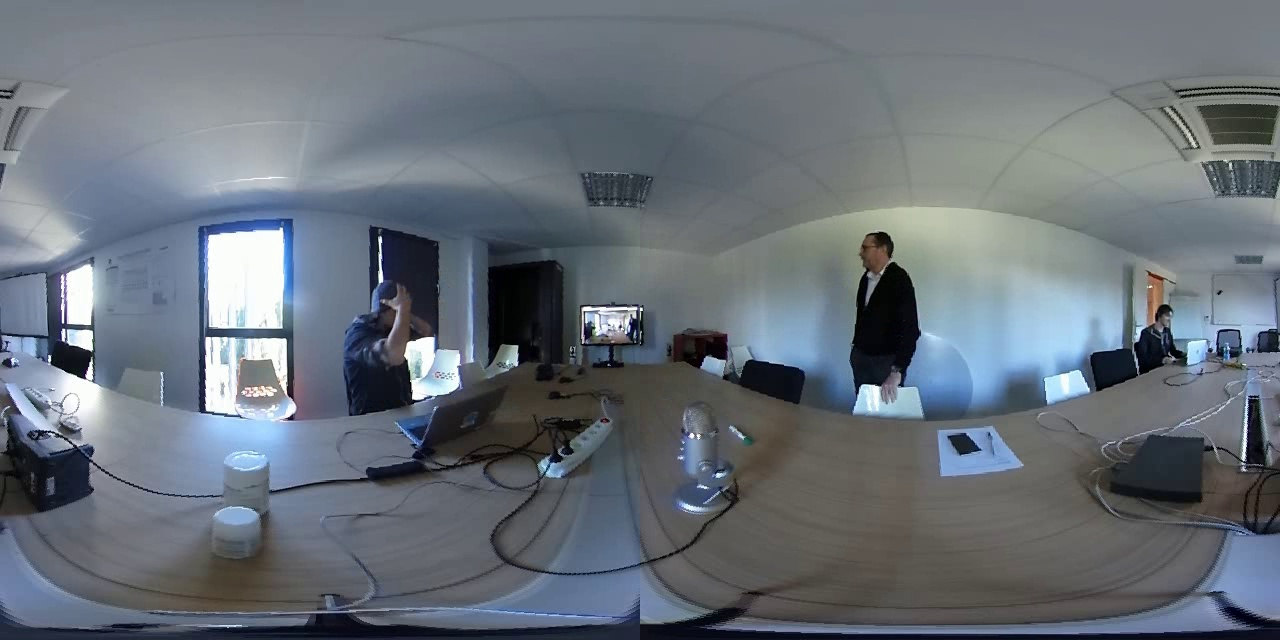person: (837, 222, 923, 388), (338, 271, 444, 403), (1140, 297, 1183, 367)
